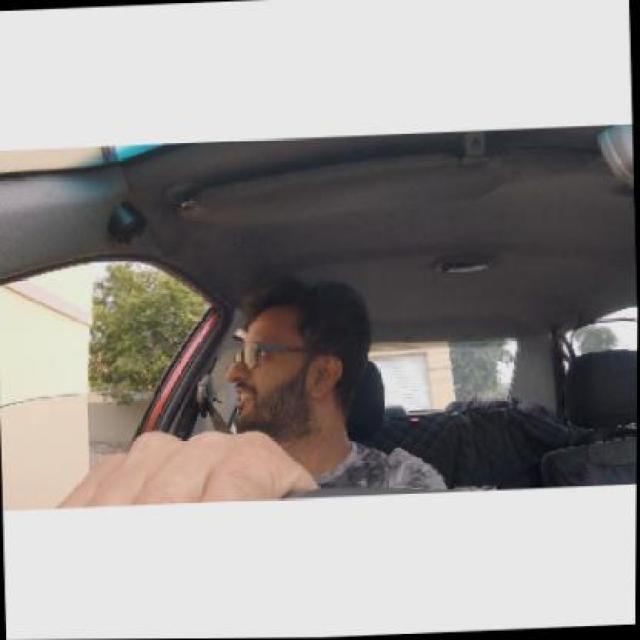LeftRight: (222, 286, 364, 431)
